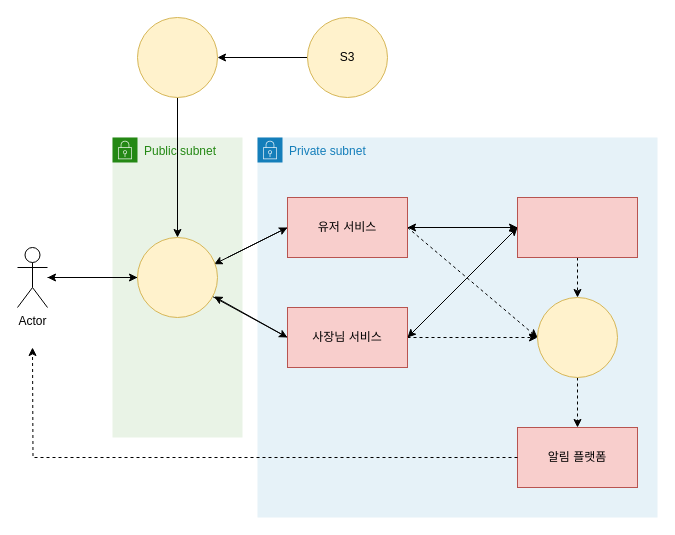
The diagram is 675 pixels wide and 535 high, and some of its shapes have lost their labels. Each missing label, with the centre of its shape:
"ALB" goes at point 177,277.
"CloudFront" goes at point 177,57.
"SQS" goes at point 577,337.
"커뮤니티 서비스" goes at point 577,227.
